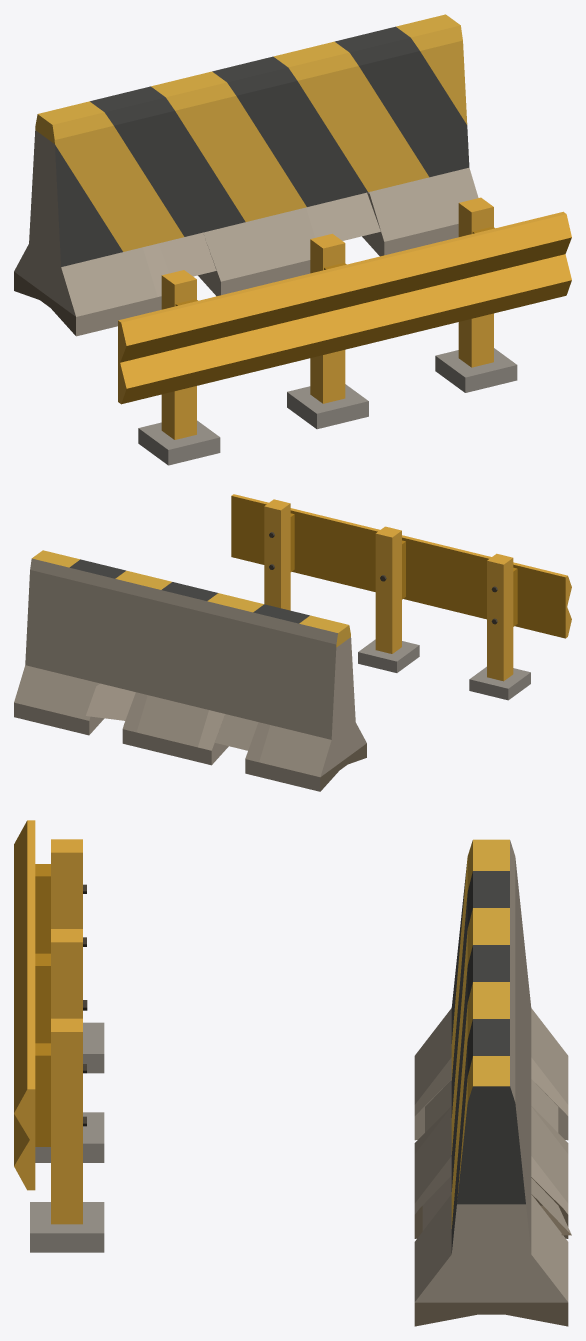
The model's file is guardrail.fbx.
3 renders of one model, top to bottom at view 1: azimuth 30°, elevation 25°; view 2: azimuth 150°, elevation 25°; view 3: azimuth 270°, elevation 25°, orthographic. The views are drawn at different scales.
Visible parts, largest first — view 1: Highway_Guardrail; view 2: Highway_Guardrail; view 3: Highway_Guardrail.
Part boxes in pixels (left/top/right/bottom): Highway_Guardrail: left=14, top=14, right=571, bottom=465; Highway_Guardrail: left=14, top=494, right=571, bottom=791; Highway_Guardrail: left=14, top=820, right=571, bottom=1326.
Bounding box in the file's own units: 280 × 100 × 210.
